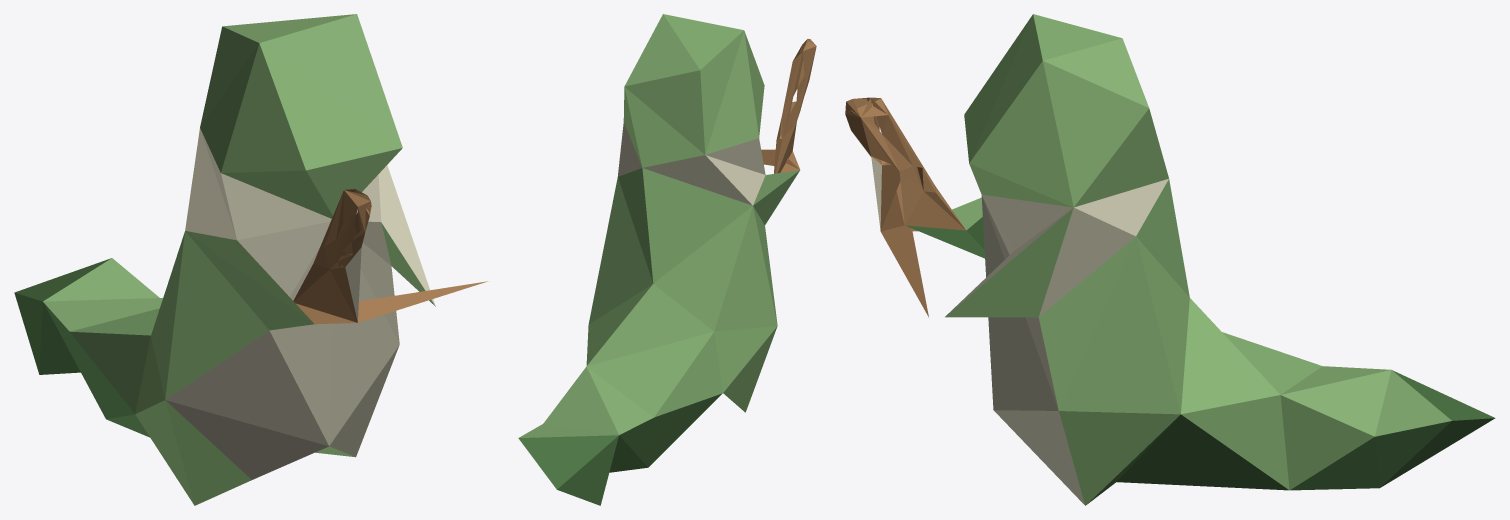
3 views of the same model, side by side, from view 1: azimuth 30°, elevation 25°; view 2: azimuth 150°, elevation 25°; view 3: azimuth 270°, elevation 25° (orthographic). The views are drawn at different scales.
Parts seen in each view (by area): view 1: lion-200; view 2: lion-200; view 3: lion-200.
Part boxes in pixels (x1=…): lion-200: x1=14, y1=14, x2=487, y2=505; lion-200: x1=518, y1=14, x2=816, y2=505; lion-200: x1=845, y1=14, x2=1495, y2=505.
Size of the model in its own units: 0.4148 by 0.7779 by 1.02.
